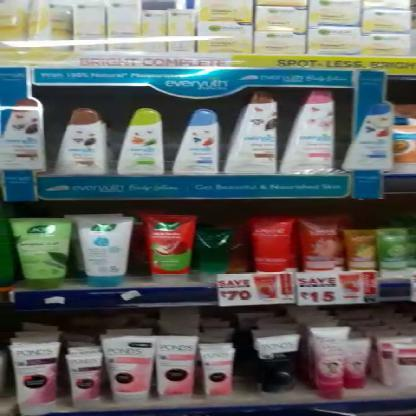Everyuth Naturals Body Lotion Nourishing Cocoa 200ml: (226, 90, 278, 176), (56, 103, 106, 176)
Everyuth Naturals Body Lotion Rejuvenating Flora 200ml: (282, 90, 335, 174)
Everyuth Naturals Body Lotion Soothing Citrus 200ml: (119, 108, 164, 176)
Everyuth Naturals Body Lotion Sun Care Berries SPF 15 200ml: (168, 109, 224, 173)
